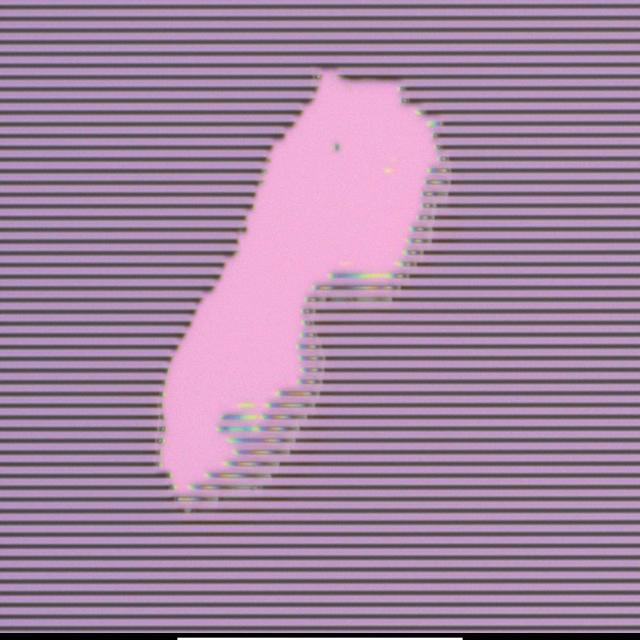03_intrusion: (144, 67, 483, 512)
